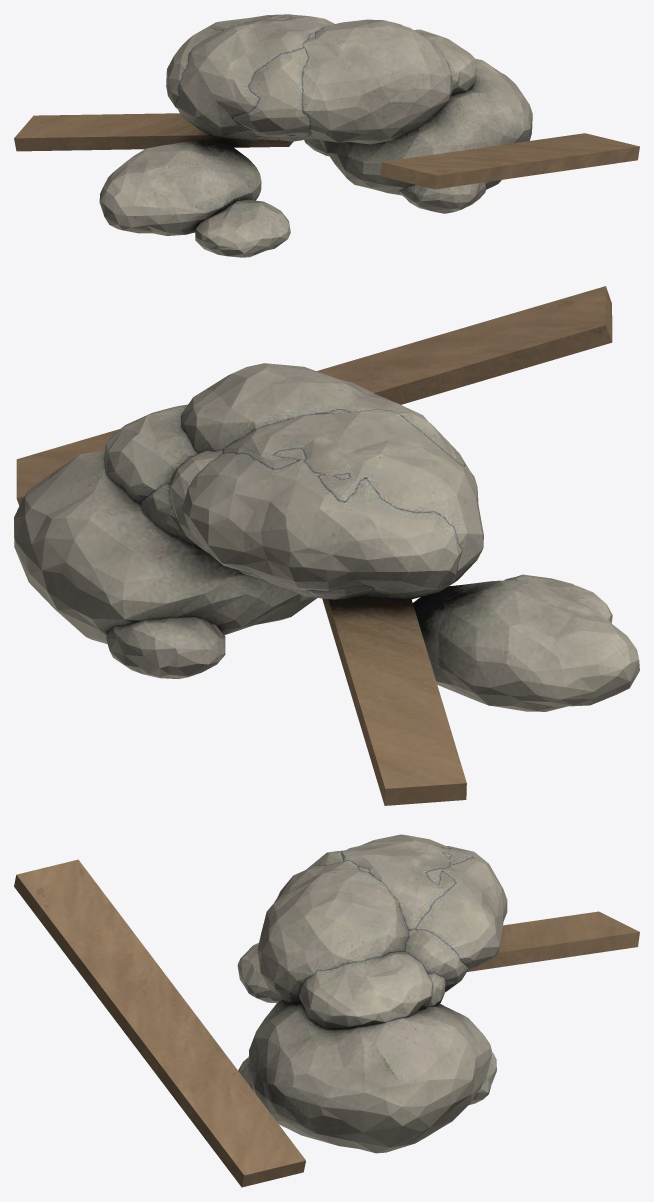
Rendered from dg_entulho.glb.
3 renders of one model, top to bottom at view 1: azimuth 30°, elevation 25°; view 2: azimuth 150°, elevation 25°; view 3: azimuth 270°, elevation 25°, orthographic. The views are drawn at different scales.
Visible parts, largest first — view 1: dg_entulho_tronco; view 2: dg_entulho_tronco; view 3: dg_entulho_tronco.
Boxes of the visible parts, left/top/right/bottom form: dg_entulho_tronco: left=14, top=14, right=639, bottom=257; dg_entulho_tronco: left=14, top=286, right=639, bottom=805; dg_entulho_tronco: left=14, top=834, right=639, bottom=1187.
Bounding box in the file's own units: 1.68 × 0.6271 × 1.69.
Materials: 1 (1 with a texture image).
